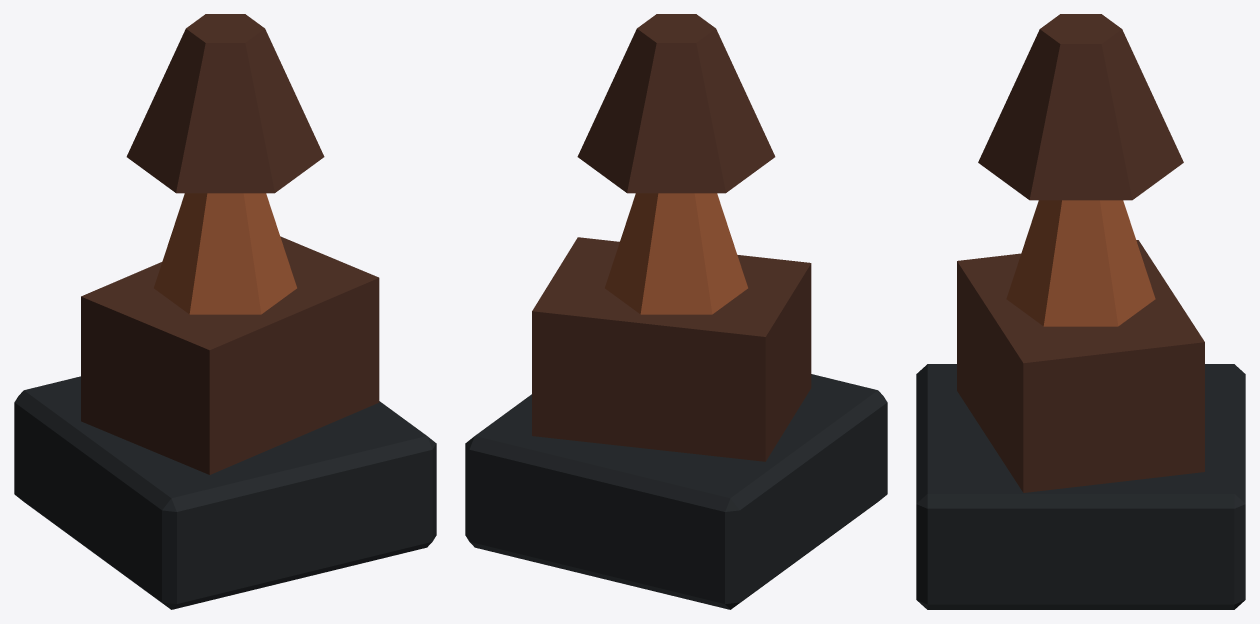
File: sculpture-32.glb
3 renders of one model, left to right at view 1: azimuth 30°, elevation 25°; view 2: azimuth 150°, elevation 25°; view 3: azimuth 270°, elevation 25°, orthographic. The views are drawn at different scales.
Visible parts, largest first — view 1: sculpture_32; view 2: sculpture_32; view 3: sculpture_32.
Part boxes in pixels (x1,y1,x2,y2): sculpture_32: (14, 14, 436, 609); sculpture_32: (465, 14, 887, 609); sculpture_32: (916, 14, 1245, 609).
Size of the model in its own units: 0.1759 by 0.304 by 0.1759.
